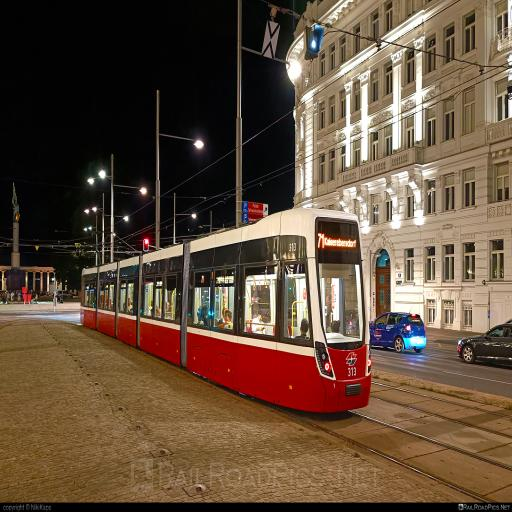Flexity: (77, 202, 377, 418)
